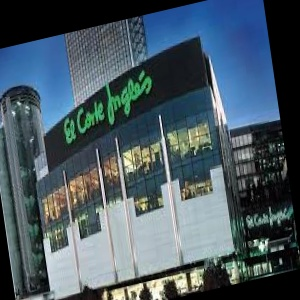corte_ingles: (84, 52, 260, 138)
